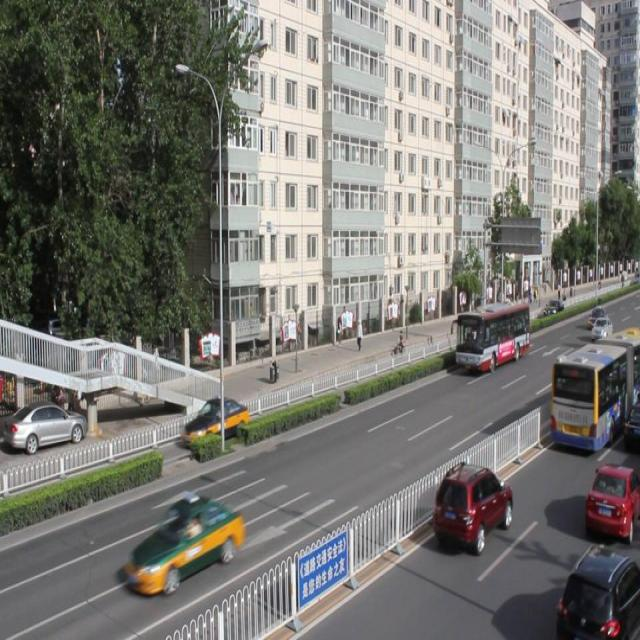car: (123, 496, 242, 593), (558, 540, 640, 640), (432, 461, 510, 550), (584, 461, 640, 540), (183, 396, 249, 448), (623, 404, 640, 449)
van: (551, 328, 640, 450), (455, 299, 528, 372)
